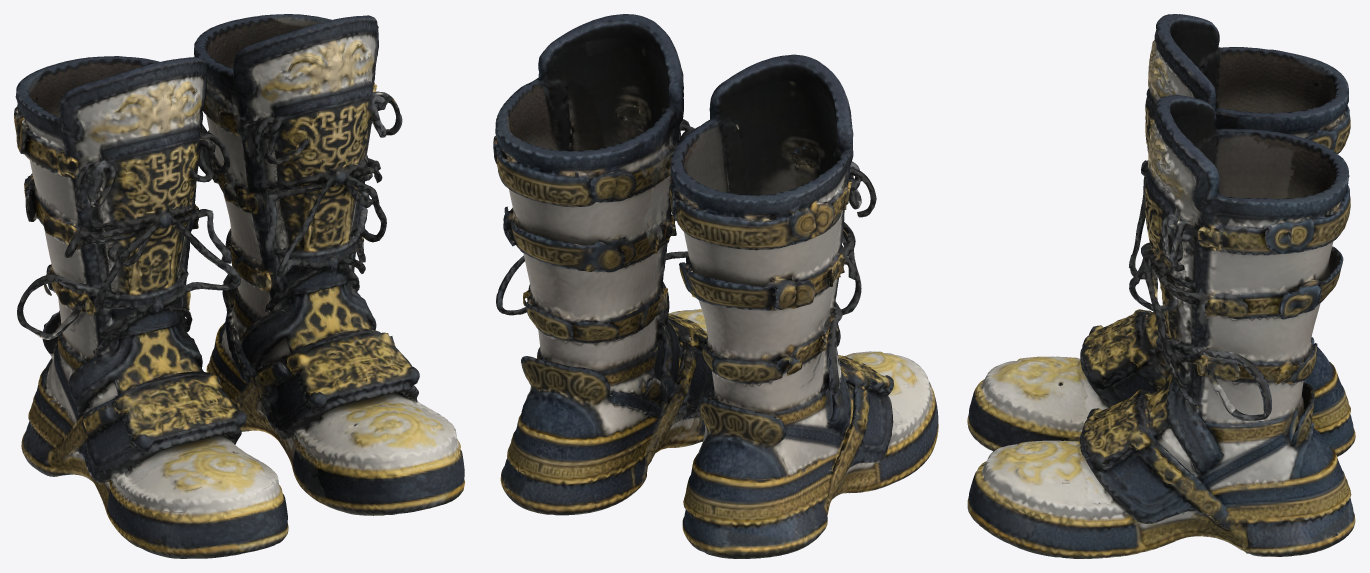
Rendered from SpeedBoots.glb.
3 views of the same model, side by side, from view 1: azimuth 30°, elevation 25°; view 2: azimuth 150°, elevation 25°; view 3: azimuth 270°, elevation 25° (orthographic). The views are drawn at different scales.
Bounding box in the file's own units: 1.6 × 1.92 × 1.6.
Materials: 1 (1 with a texture image).
